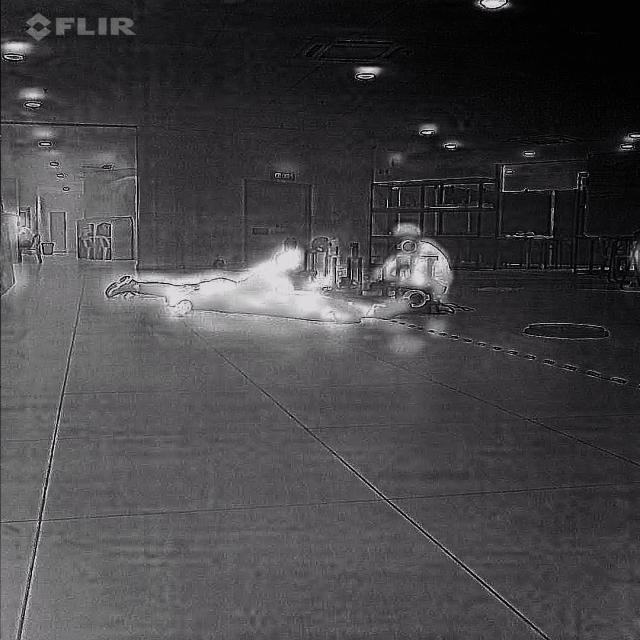Victim: (146, 272, 420, 324), (109, 248, 306, 299), (376, 220, 459, 301)
